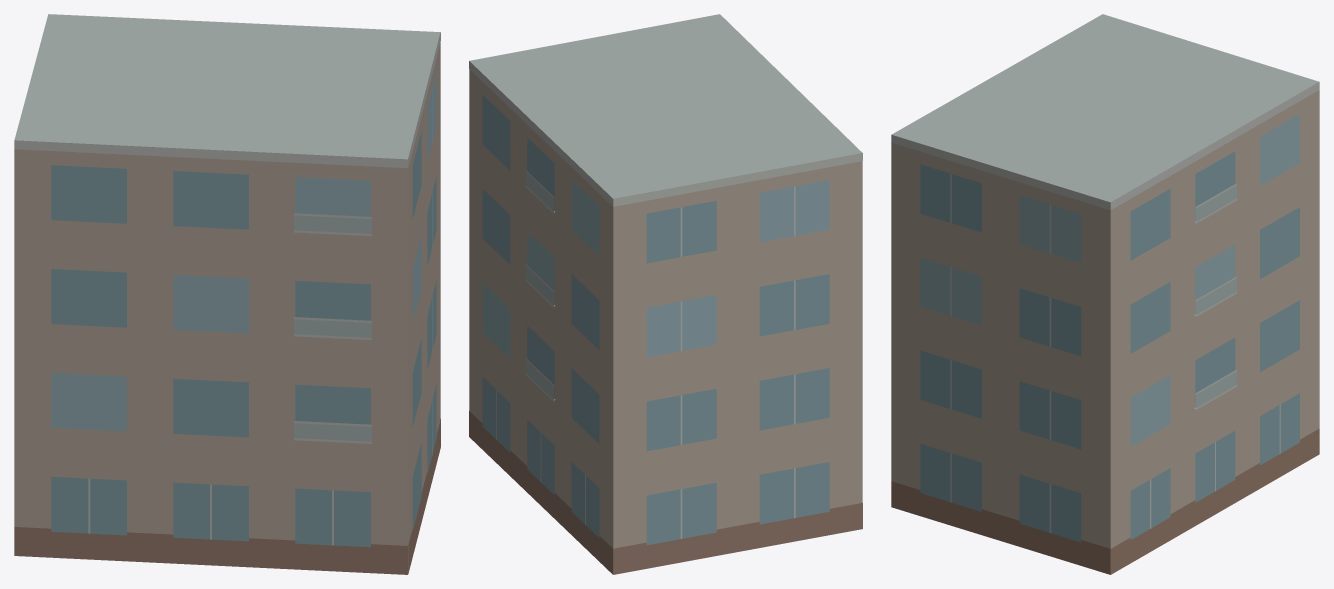
The model's file is survey-upis-32992984.glb.
3 renders of one model, left to right at view 1: azimuth 30°, elevation 25°; view 2: azimuth 150°, elevation 25°; view 3: azimuth 270°, elevation 25°, orthographic. The views are drawn at different scales.
Visible parts, largest first — view 1: survey-upis-32992984.tmp; view 2: survey-upis-32992984.tmp; view 3: survey-upis-32992984.tmp.
Boxes of the visible parts, x1,y1,x2,y2 form: survey-upis-32992984.tmp: (14, 14, 440, 574); survey-upis-32992984.tmp: (469, 14, 862, 574); survey-upis-32992984.tmp: (891, 14, 1319, 574).
Bounding box in the file's own units: 12.37 × 11.4 × 11.89.
